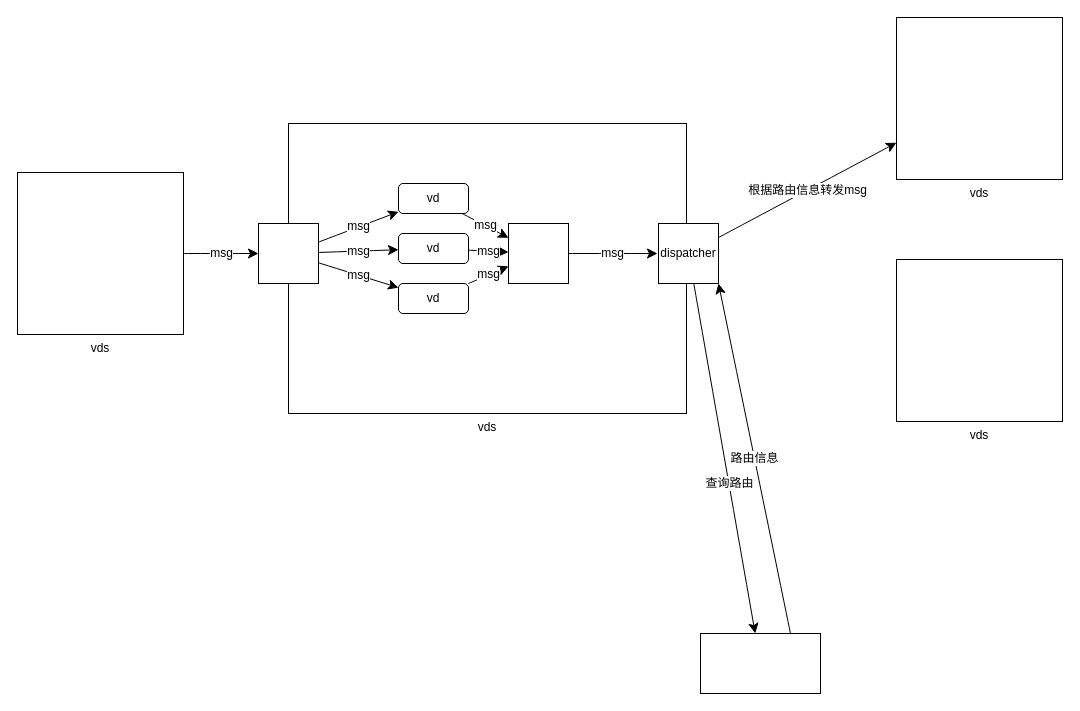
This 1080x711 diagram has some shape labels left out. Each missing label, with the box of its shape:
egress router: (508, 222, 568, 284)
ingress router: (258, 222, 318, 284)
registry: (700, 632, 820, 694)
